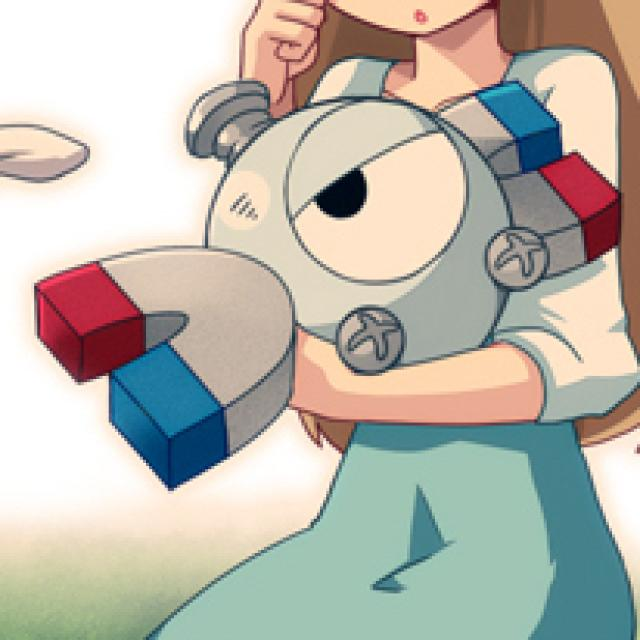Magnemite: (34, 73, 620, 467)
